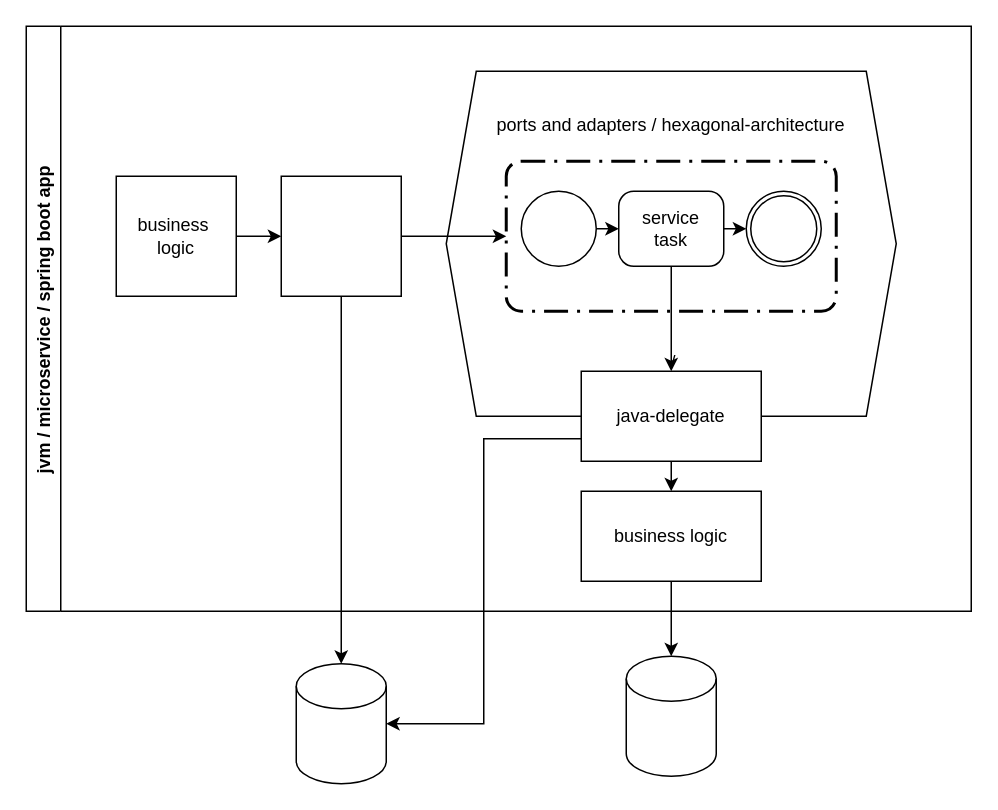
This 998x810 diagram has some shape labels left out. Each missing label, with the centre of its shape:
app state: pixel 670 715
process instances: pixel 340 723
workflow engine: pixel 340 235
